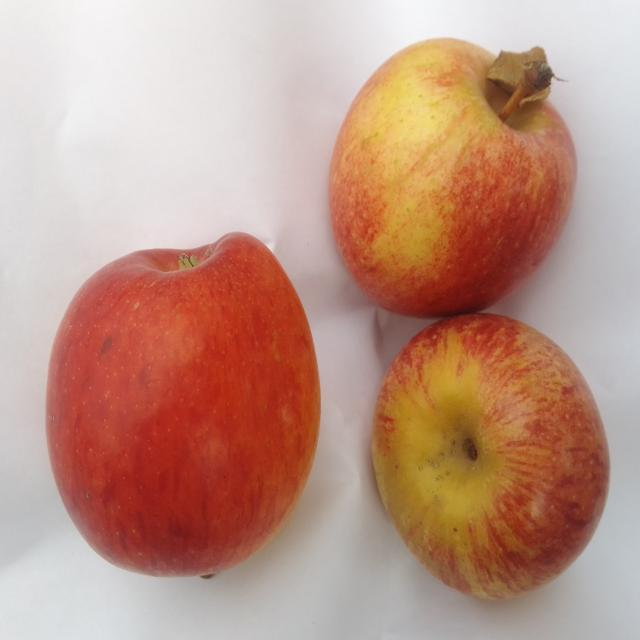Fresh Apple: (37, 223, 328, 582), (323, 30, 582, 332), (378, 312, 610, 600)
